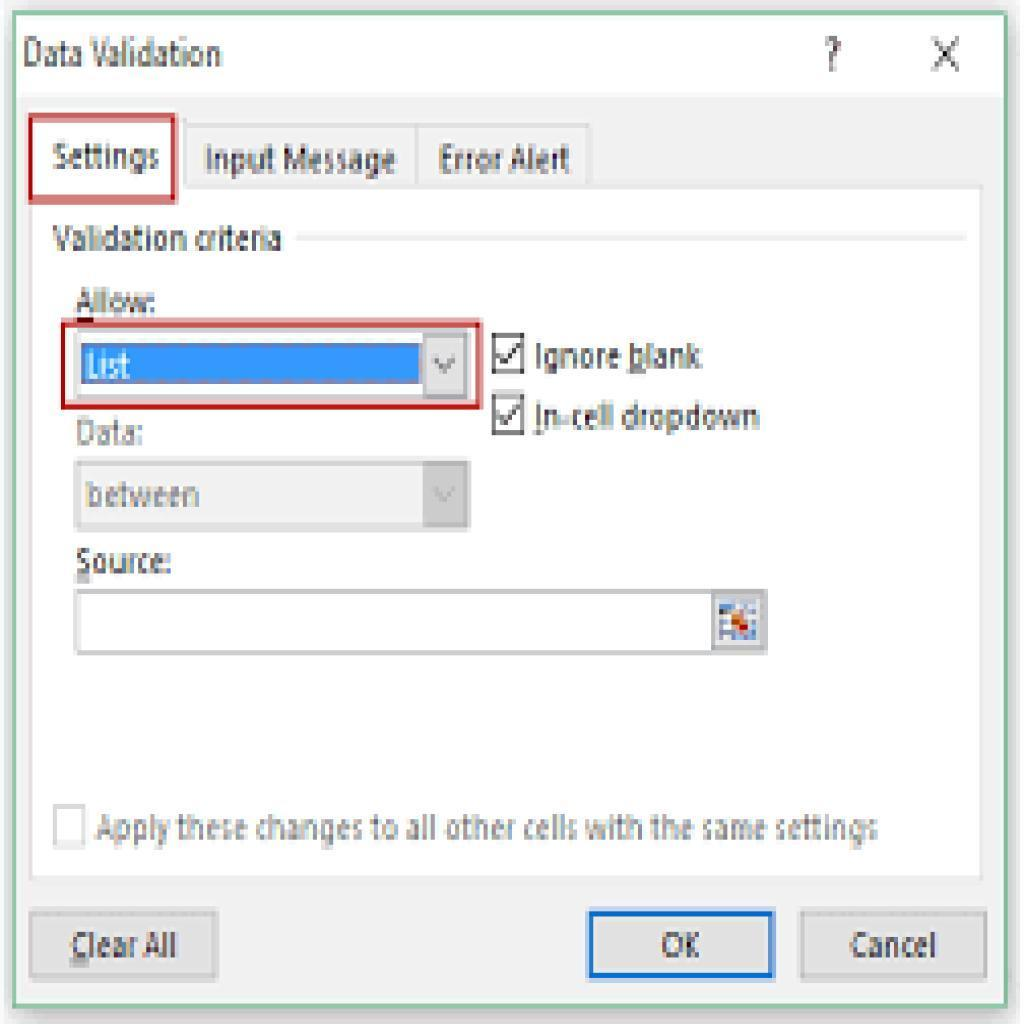button: (587, 907, 776, 982), (186, 124, 416, 185), (28, 112, 178, 204), (30, 909, 220, 979), (801, 913, 986, 980), (418, 127, 592, 189)
checkbox: (53, 804, 86, 851), (494, 333, 526, 375), (492, 394, 524, 435)
dropdown: (63, 321, 484, 409), (78, 459, 469, 532)
icon: (715, 588, 770, 655), (927, 35, 966, 77), (822, 31, 849, 78)
input: (76, 592, 715, 654)
